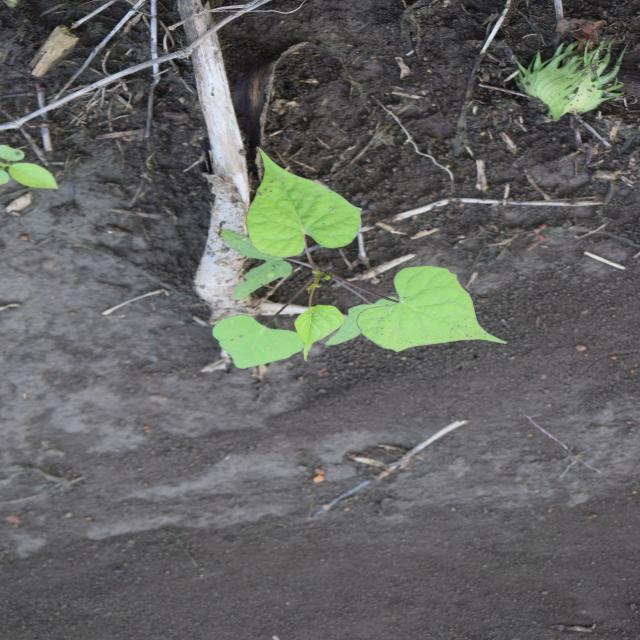MorningGlory: (208, 145, 510, 371)
